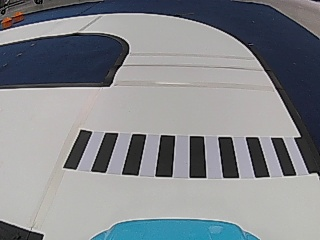CrossWalk: (63, 129, 312, 179)
